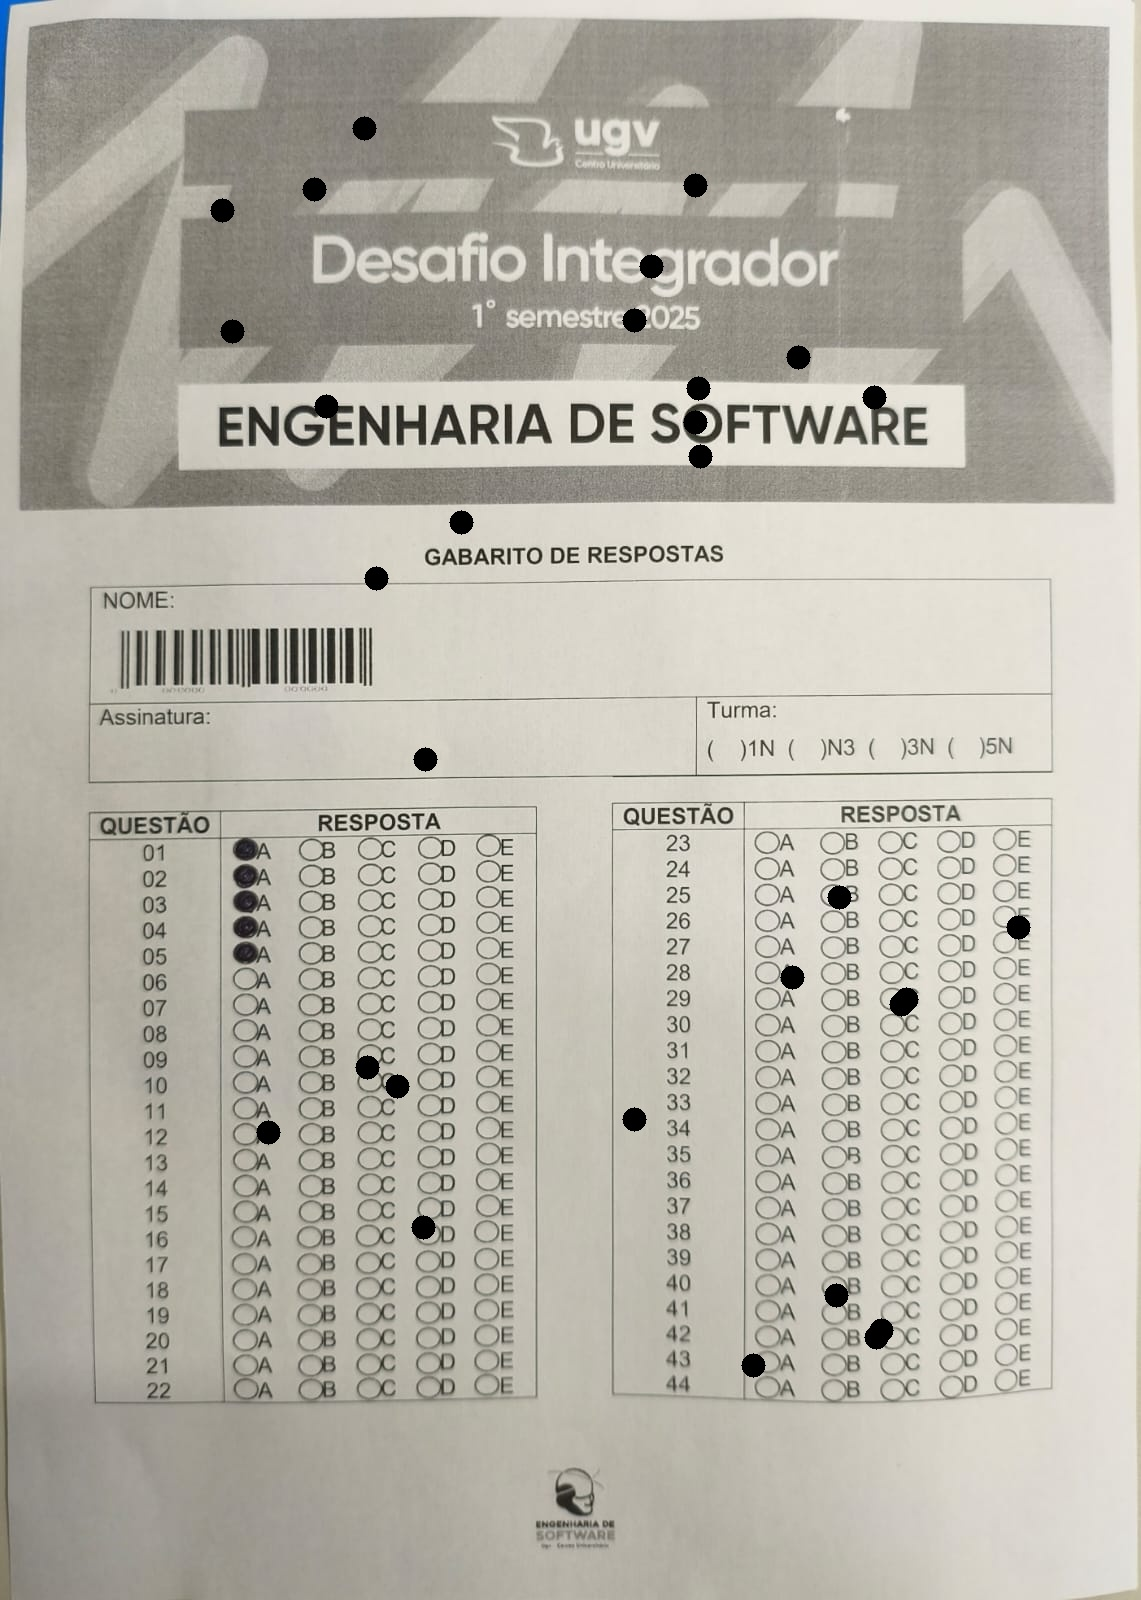bolinha: (220, 314, 244, 348), (256, 1115, 280, 1149), (824, 1278, 848, 1312), (688, 440, 713, 473), (314, 389, 338, 422), (412, 742, 437, 775), (683, 405, 708, 438), (638, 249, 663, 283), (741, 1348, 766, 1381), (683, 168, 708, 201), (354, 1051, 379, 1084), (210, 193, 233, 227), (303, 172, 326, 206), (411, 1210, 435, 1244), (864, 1320, 888, 1354), (1006, 910, 1030, 944), (449, 505, 473, 538), (622, 304, 646, 337), (889, 988, 913, 1021), (622, 1102, 646, 1136), (894, 983, 917, 1016), (869, 1314, 893, 1347), (364, 562, 388, 595), (352, 111, 375, 144), (385, 1069, 409, 1102), (687, 372, 710, 405), (780, 960, 804, 994), (827, 880, 851, 914), (862, 380, 885, 414), (787, 341, 810, 374)
